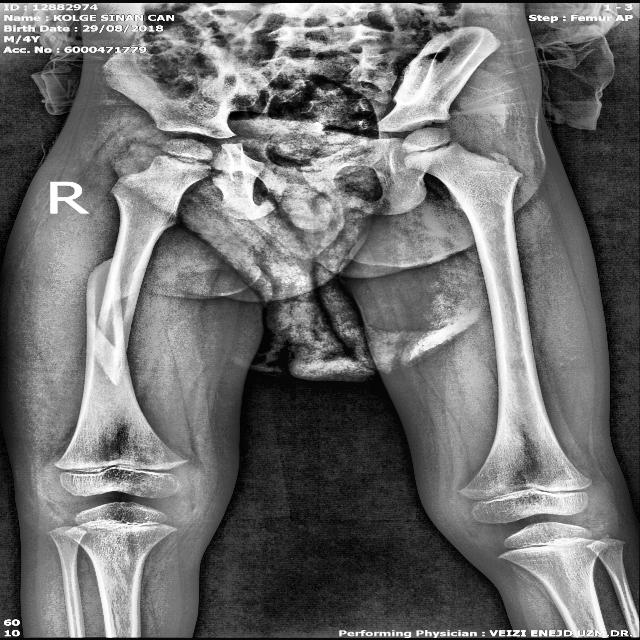Fracture: (66, 243, 158, 392)
